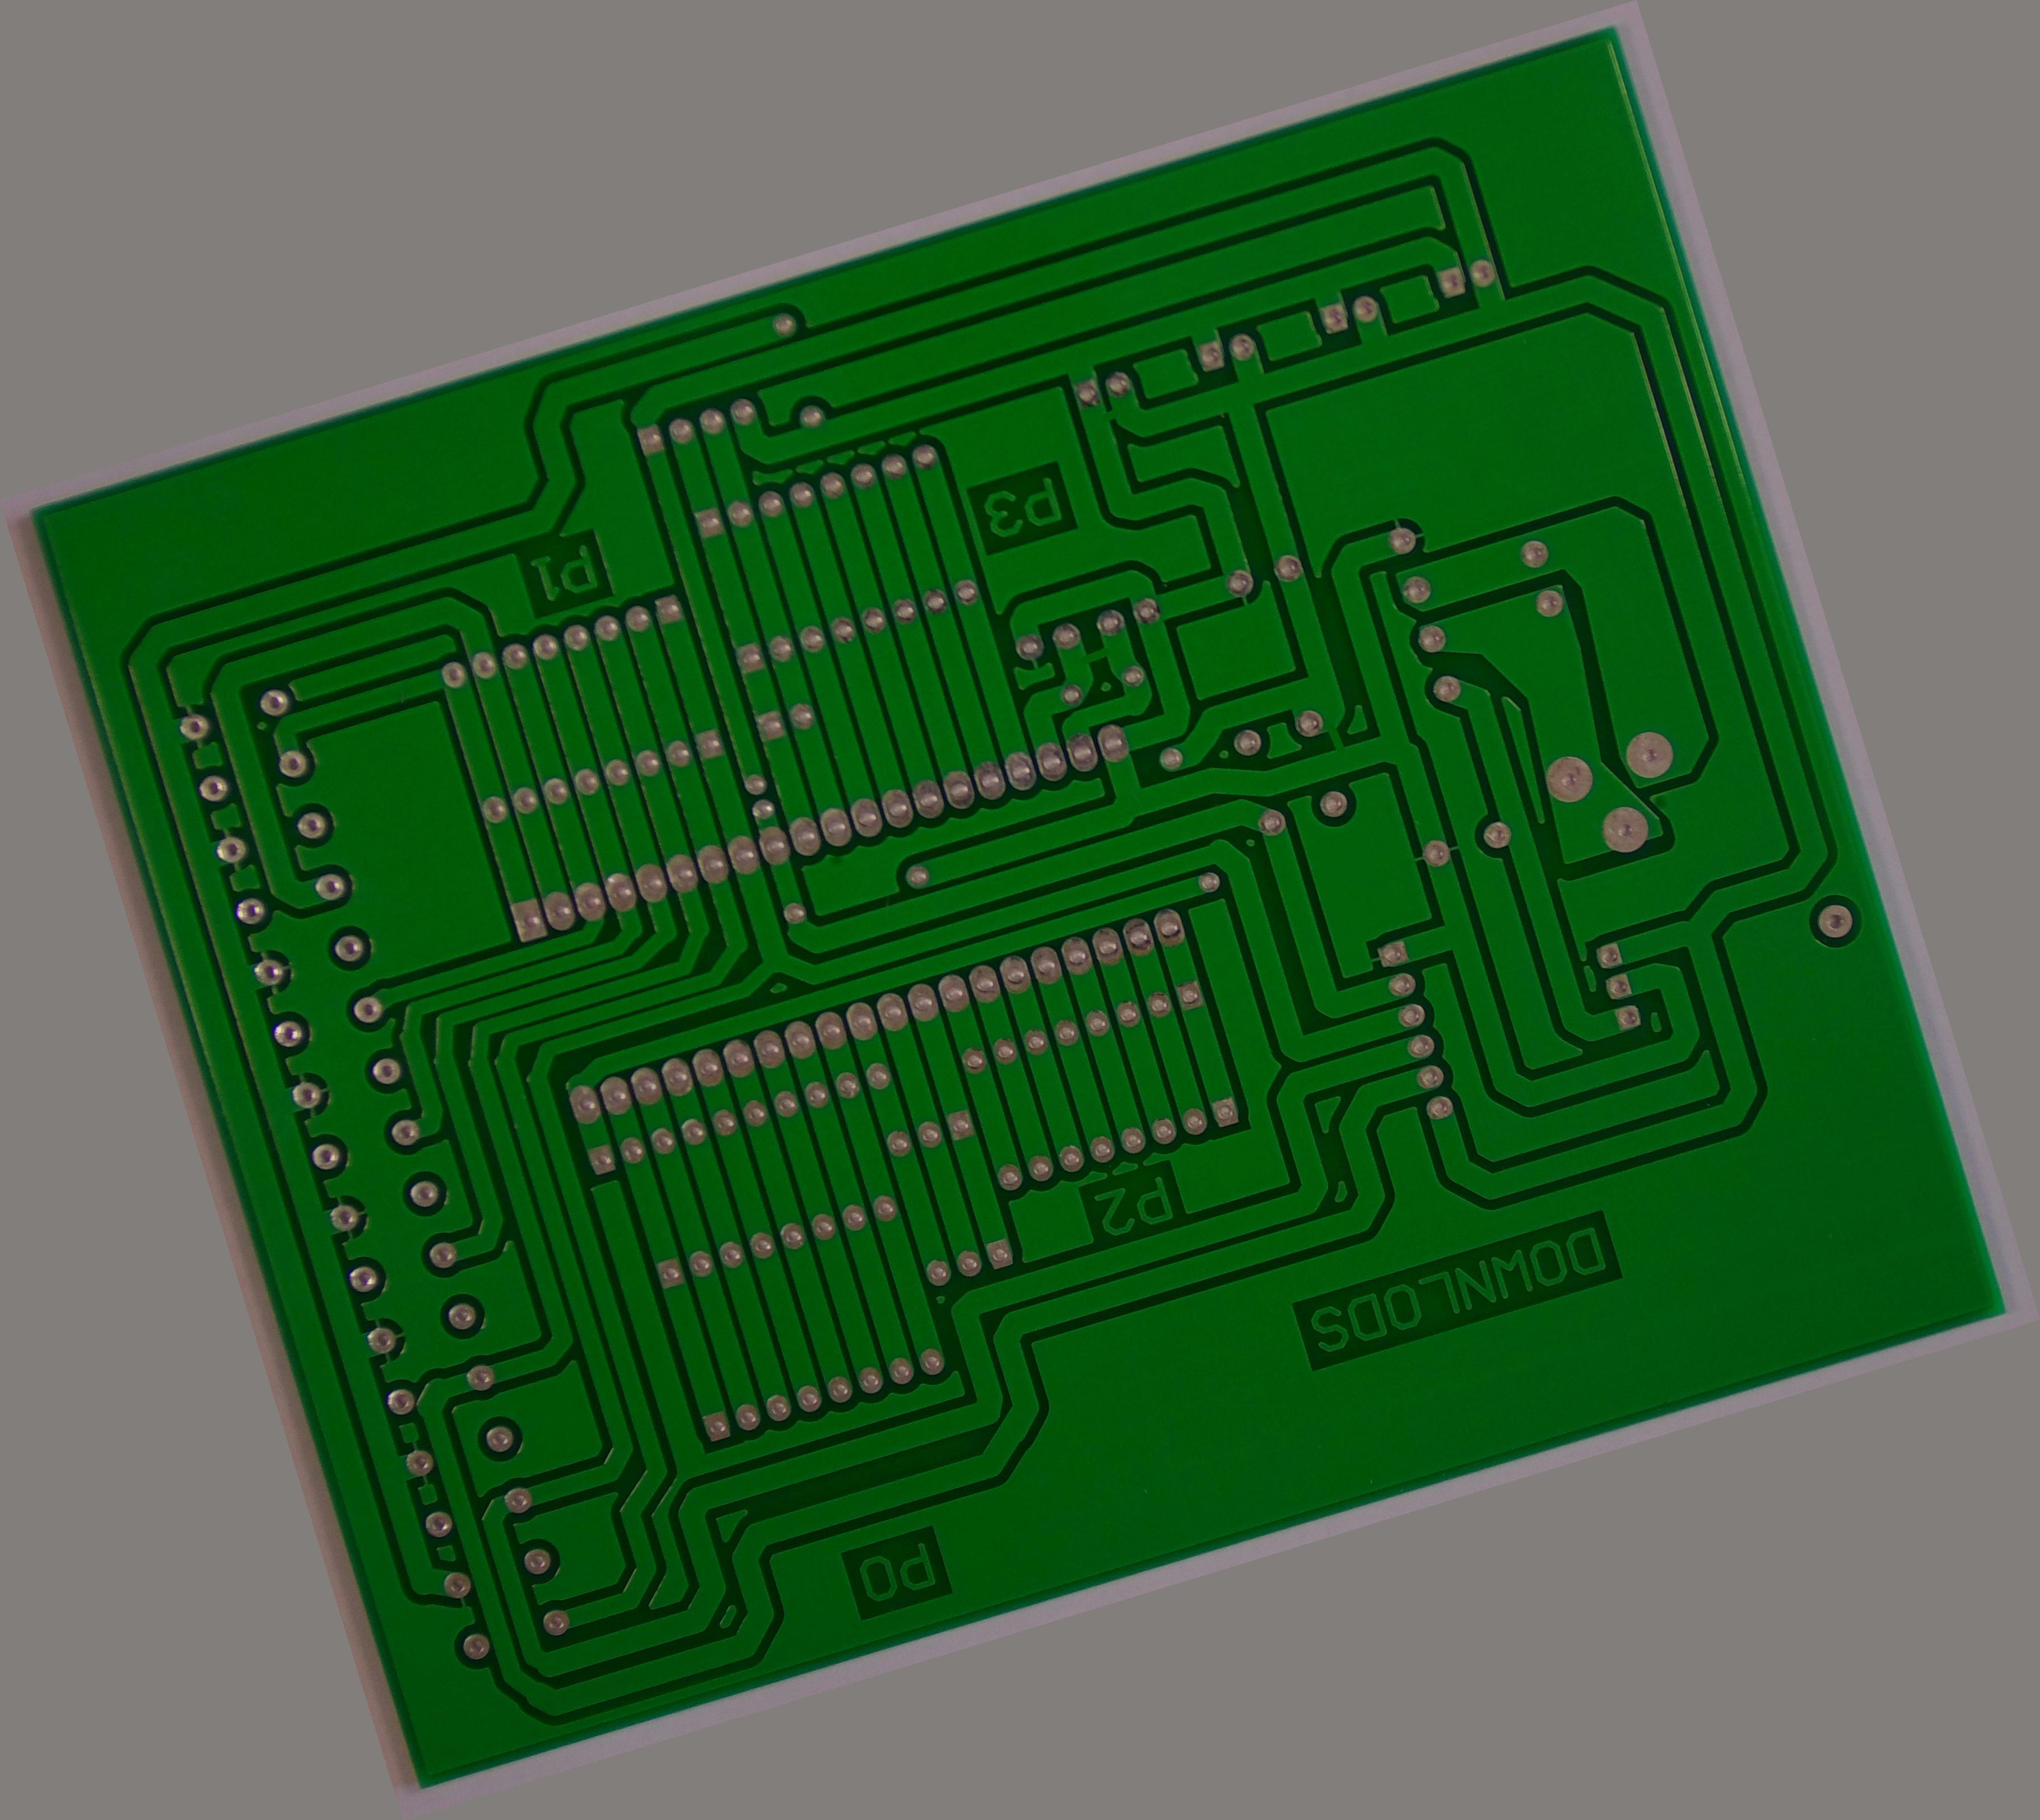short: (1290, 685, 1381, 775), (1072, 374, 1142, 446), (1060, 617, 1128, 687)
